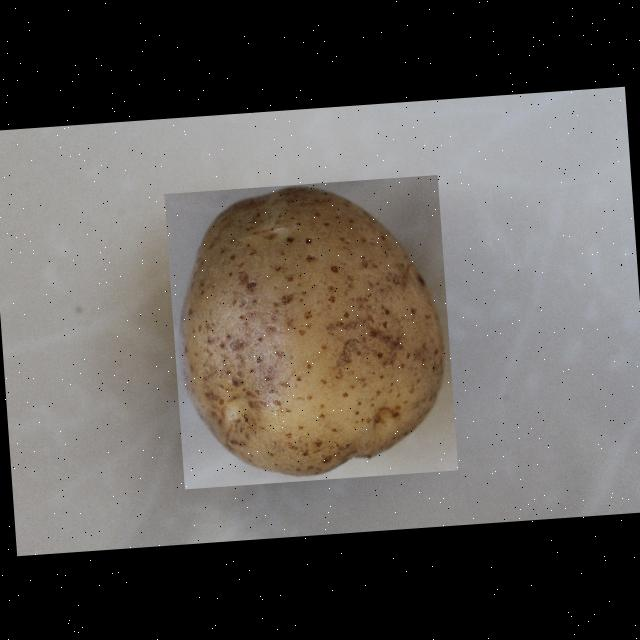Diseased-fungal potato: (162, 173, 456, 488)
